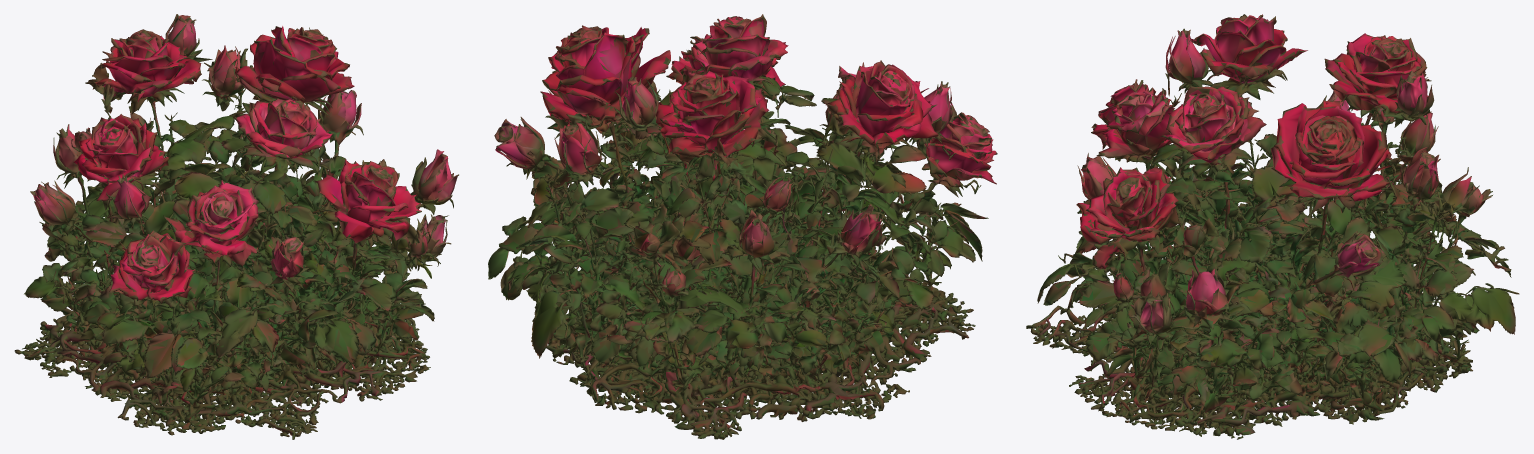
Rendered from Meshy_AI_flower_cluster_a_0823021337_image-to-3d-texture.glb.
The picture shows the model from 3 angles, left to right: view 1: azimuth 30°, elevation 25°; view 2: azimuth 150°, elevation 25°; view 3: azimuth 270°, elevation 25°; orthographic projection. The views are drawn at different scales.
Size of the model in its own units: 1.84 by 1.28 by 1.91.
1 material, 1 textured.
